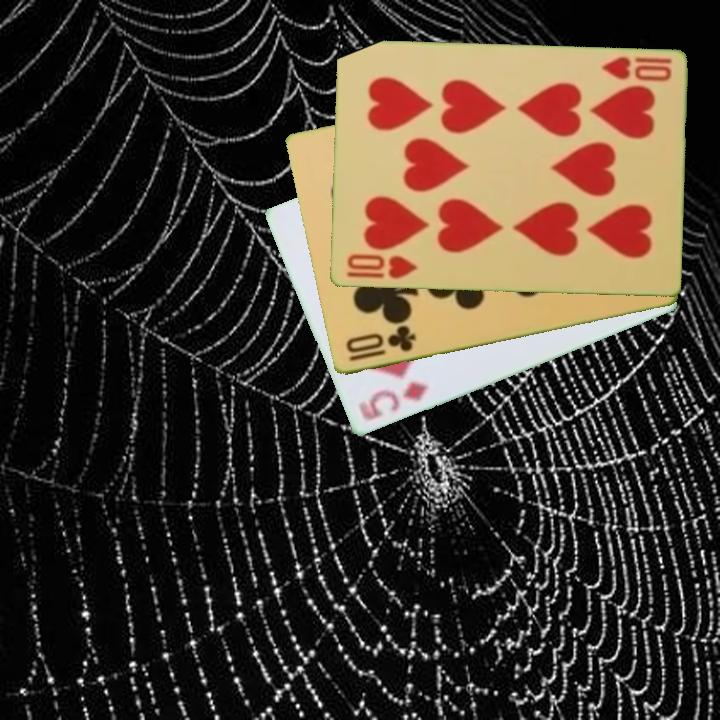10c: (342, 323, 419, 365)
10h: (597, 53, 674, 85), (343, 251, 420, 282)
5d: (354, 379, 432, 424)
